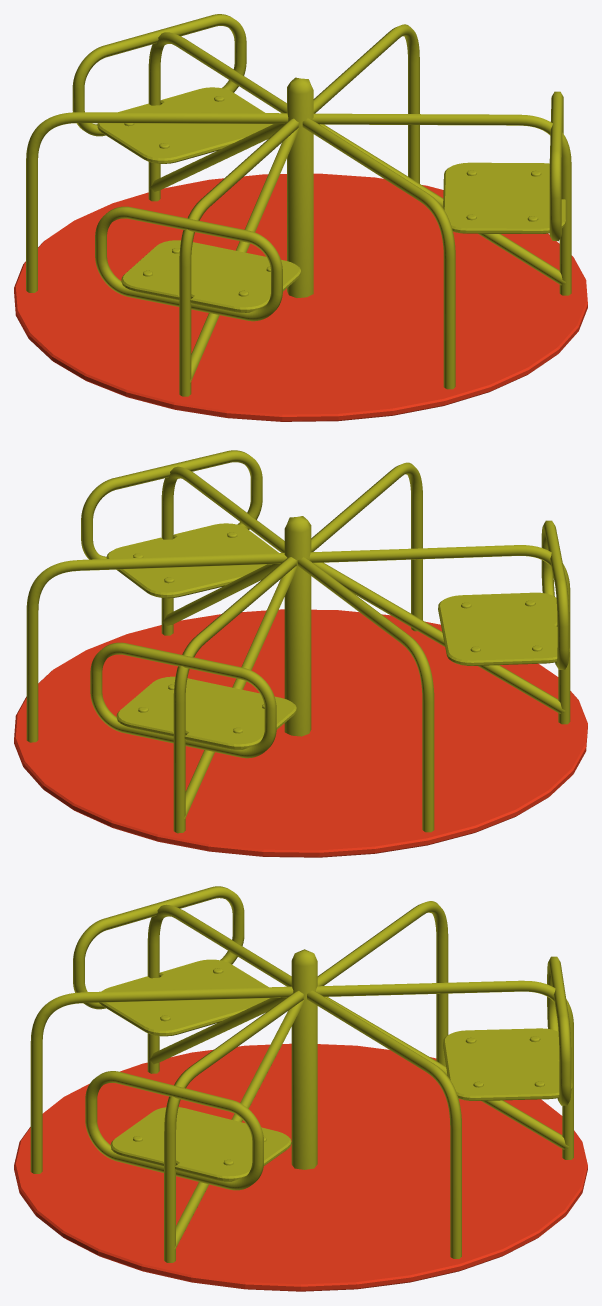
File: merry.fbx
3 renders of one model, top to bottom at view 1: azimuth 30°, elevation 25°; view 2: azimuth 150°, elevation 25°; view 3: azimuth 270°, elevation 25°, orthographic.
Parts seen in each view (by area): view 1: child swing2; view 2: child swing2; view 3: child swing2.
Part boxes in pixels (x1=…): child swing2: x1=14, y1=14, x2=587, y2=421; child swing2: x1=14, y1=450, x2=587, y2=857; child swing2: x1=14, y1=886, x2=587, y2=1291.
Size of the model in its own units: 790 by 386 by 790.
